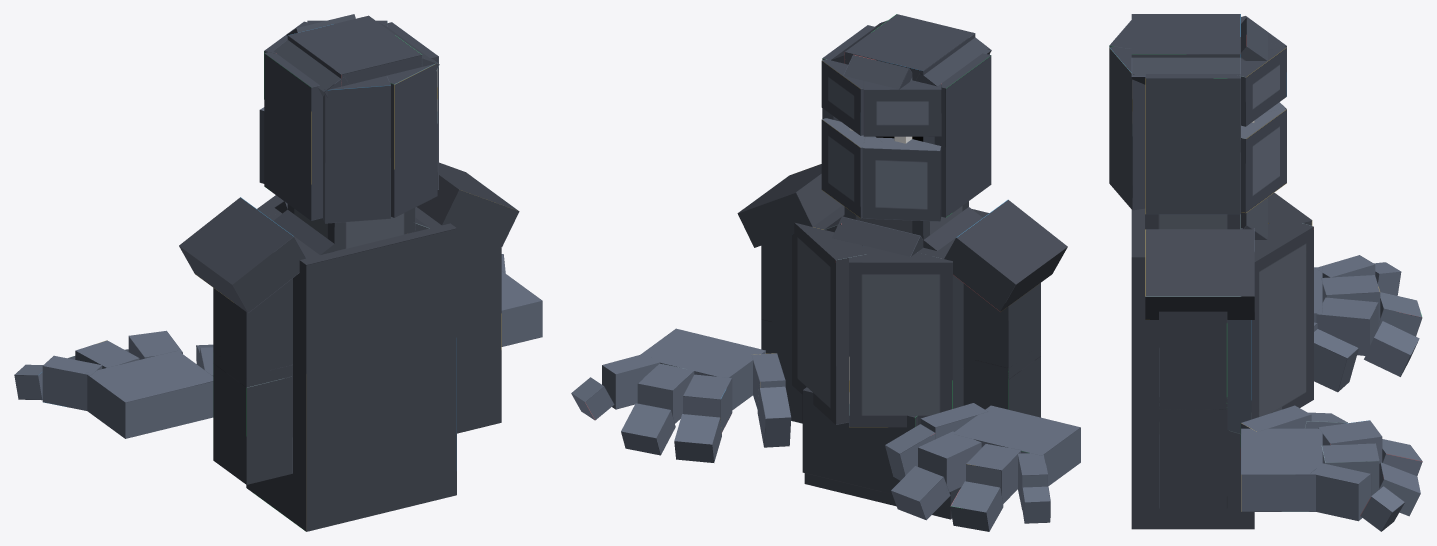
Rendered from CardMaster1.fbx.
The picture shows the model from 3 angles, left to right: view 1: azimuth 30°, elevation 25°; view 2: azimuth 150°, elevation 25°; view 3: azimuth 270°, elevation 25°; orthographic projection. The views are drawn at different scales.
Parts seen in each view (by area): view 1: cube_13, cube_7, cube_21, cube_26, cube_5, cube_25, cube_8, cube_23, cube_1, cube_24, cube_20, cube_22 (+9 smaller); view 2: cube_15, cube_14, cube_21, cube_5, cube_3, cube_16, cube_23, cube_26, cube_1, cube_20, cube_27, cube (+27 smaller); view 3: cube_14, cube_4, cube_13, cube_20, cube_24, cube_22, cube_27, cube_8, cube_1, cube_2, cube_6, cube_28 (+20 smaller).
Part boxes in pixels (bbox=[...]): cube_13: bbox=[246, 207, 456, 531]; cube_7: bbox=[323, 76, 390, 223]; cube_21: bbox=[179, 197, 306, 312]; cube_26: bbox=[87, 350, 213, 438]; cube_5: bbox=[264, 52, 322, 220]; cube_25: bbox=[213, 352, 292, 484]; cube_8: bbox=[377, 62, 437, 217]; cube_23: bbox=[213, 278, 292, 387]; cube_1: bbox=[287, 15, 422, 86]; cube_24: bbox=[457, 313, 501, 433]; cube_20: bbox=[417, 162, 519, 246]; cube_22: bbox=[457, 231, 501, 324]; cube_15: bbox=[849, 246, 952, 427]; cube_14: bbox=[792, 222, 866, 424]; cube_21: bbox=[944, 199, 1067, 311]; cube_5: bbox=[923, 53, 991, 217]; cube_3: bbox=[862, 137, 941, 221]; cube_16: bbox=[802, 387, 917, 494]; cube_23: bbox=[963, 283, 1040, 379]; cube_26: bbox=[953, 405, 1080, 486]; cube_1: bbox=[844, 14, 975, 141]; cube_20: bbox=[737, 164, 842, 247]; cube_27: bbox=[637, 328, 765, 409]; cube: bbox=[863, 80, 941, 136]; cube_14: bbox=[1227, 223, 1313, 434]; cube_4: bbox=[1145, 74, 1240, 214]; cube_13: bbox=[1131, 208, 1254, 529]; cube_20: bbox=[1145, 229, 1254, 319]; cube_24: bbox=[1159, 397, 1227, 508]; cube_22: bbox=[1159, 311, 1227, 409]; cube_27: bbox=[1241, 428, 1322, 511]; cube_8: bbox=[1109, 46, 1145, 210]; cube_1: bbox=[1131, 14, 1240, 57]; cube_2: bbox=[1241, 106, 1286, 213]; cube_6: bbox=[1240, 46, 1286, 126]; cube_28: bbox=[1310, 463, 1371, 521].
Bounding box in the file's own units: 265 × 232 × 144.
Materials: 1 (1 with a texture image).
